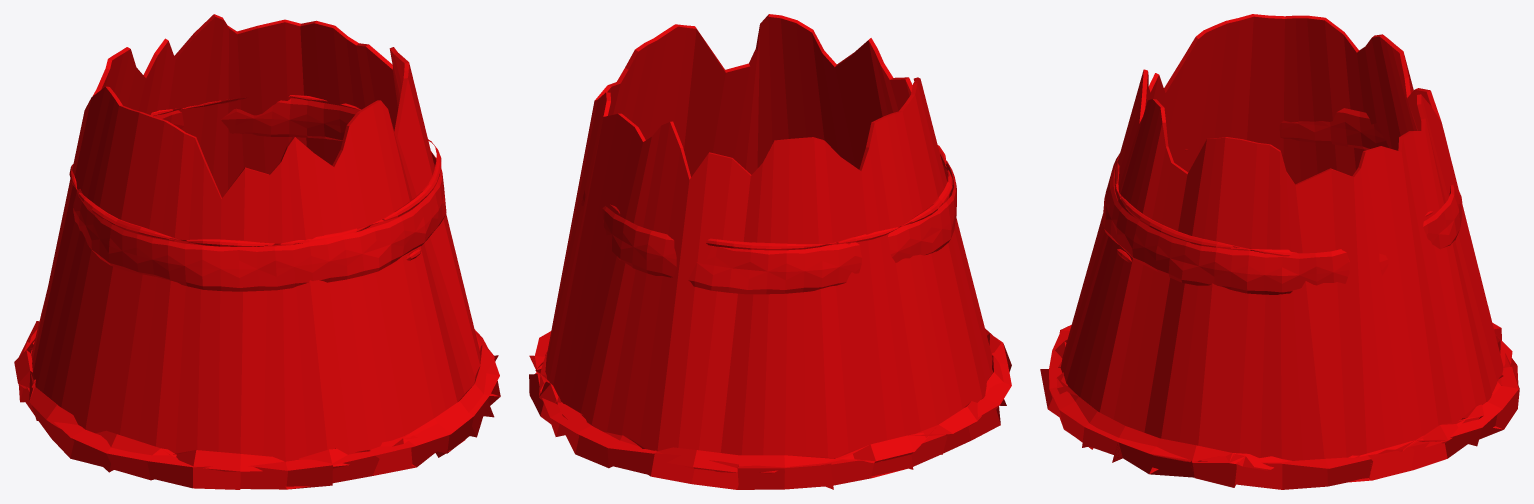
Rendered from BarrelDestroyedBottom.fbx.
3 renders of one model, left to right at view 1: azimuth 30°, elevation 25°; view 2: azimuth 150°, elevation 25°; view 3: azimuth 270°, elevation 25°, orthographic. The views are drawn at different scales.
Visible parts, largest first — view 1: Cylinder, Cylinder.002, Cylinder.004; view 2: Cylinder, Cylinder.004, Cylinder.002; view 3: Cylinder, Cylinder.004, Cylinder.002.
Part boxes in pixels (box(x1,y1,x2,y2)): Cylinder: box(31, 14, 480, 461); Cylinder.002: box(69, 95, 446, 291); Cylinder.004: box(14, 321, 500, 489); Cylinder: box(545, 14, 992, 457); Cylinder.004: box(529, 328, 1011, 489); Cylinder.002: box(580, 145, 956, 294); Cylinder: box(1060, 14, 1503, 460); Cylinder.004: box(1040, 323, 1519, 489); Cylinder.002: box(1102, 108, 1462, 294).
Bounding box in the file's own units: 106 × 79.14 × 107.
